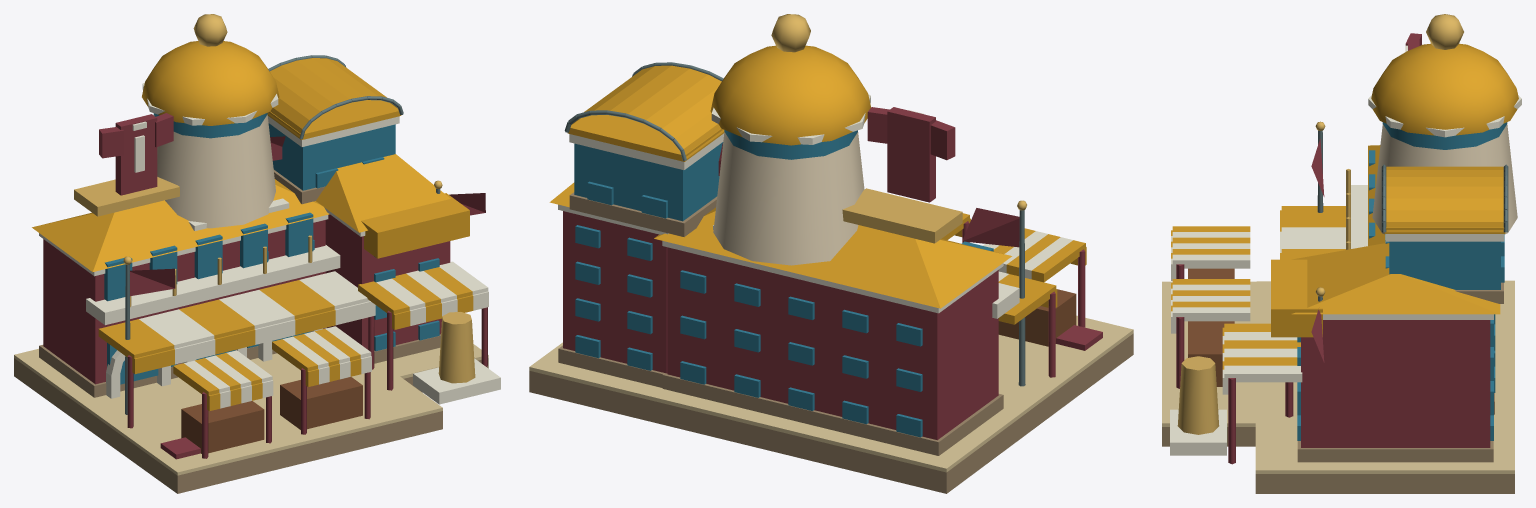
The model's file is club-shop-lv5.glb.
The picture shows the model from 3 angles, left to right: view 1: azimuth 30°, elevation 25°; view 2: azimuth 150°, elevation 25°; view 3: azimuth 270°, elevation 25°; orthographic projection. The views are drawn at different scales.
Parts seen in each view (by area): view 1: foundation_sand, awnings_ochre, flagship_rotunda_cream, awnings_white, market_row_burgundy, market_row_roof_ochre, flagship_dome_ochre, foundation_stoneDark, showroom_roof_ochre, market_stalls_wood, shop_balcony_white, retail_corner_roof_ochre (+26 smaller); view 2: market_row_burgundy, flagship_rotunda_cream, foundation_sand, foundation_stoneDark, flagship_dome_ochre, market_row_roof_ochre, retail_corner_burgundy, showroom_roof_ochre, market_row_windows_glass, showroom_glass, jersey_sign_burgundy, market_row_stoneDark (+19 smaller); view 3: retail_corner_burgundy, foundation_sand, flagship_dome_ochre, retail_corner_roof_ochre, awnings_white, showroom_roof_ochre, awnings_ochre, foundation_stoneDark, showroom_glass, flagship_rotunda_cream, corner_gate_ochre, retail_corner_stoneDark (+18 smaller).
Part boxes in pixels (x1,y1,x2,y2): foundation_sand: (14, 344, 488, 475); awnings_ochre: (98, 267, 472, 398); flagship_rotunda_cream: (153, 114, 275, 228); awnings_white: (139, 261, 488, 392); market_row_burgundy: (43, 220, 325, 384); market_row_roof_ochre: (32, 179, 329, 271); flagship_dome_ochre: (142, 41, 279, 125); foundation_stoneDark: (14, 358, 488, 493); showroom_roof_ochre: (267, 58, 401, 139); market_stalls_wood: (181, 377, 362, 453); shop_balcony_white: (86, 245, 340, 325); retail_corner_roof_ochre: (316, 154, 450, 232); market_row_burgundy: (667, 247, 998, 440); flagship_rotunda_cream: (713, 132, 864, 265); foundation_sand: (529, 315, 1133, 472); foundation_stoneDark: (529, 333, 1133, 493); flagship_dome_ochre: (710, 45, 870, 145); market_row_roof_ochre: (654, 207, 1011, 308); retail_corner_burgundy: (563, 211, 667, 373); showroom_roof_ochre: (567, 65, 724, 161); market_row_windows_glass: (680, 270, 922, 437); showroom_glass: (574, 142, 723, 221); jersey_sign_burgundy: (867, 107, 955, 202); market_row_stoneDark: (662, 373, 1003, 455); retail_corner_burgundy: (1301, 320, 1490, 447); foundation_sand: (1162, 280, 1514, 473); flagship_dome_ochre: (1371, 43, 1518, 135); retail_corner_roof_ochre: (1291, 243, 1500, 314); awnings_white: (1172, 227, 1345, 382); showroom_roof_ochre: (1384, 166, 1505, 233); awnings_ochre: (1172, 206, 1345, 365); foundation_stoneDark: (1162, 427, 1514, 493); showroom_glass: (1389, 241, 1500, 289); flagship_rotunda_cream: (1372, 124, 1517, 234); corner_gate_ochre: (1271, 259, 1322, 337); retail_corner_stoneDark: (1297, 441, 1493, 462).
Size of the model in its own units: 1 by 0.8578 by 0.7411.
